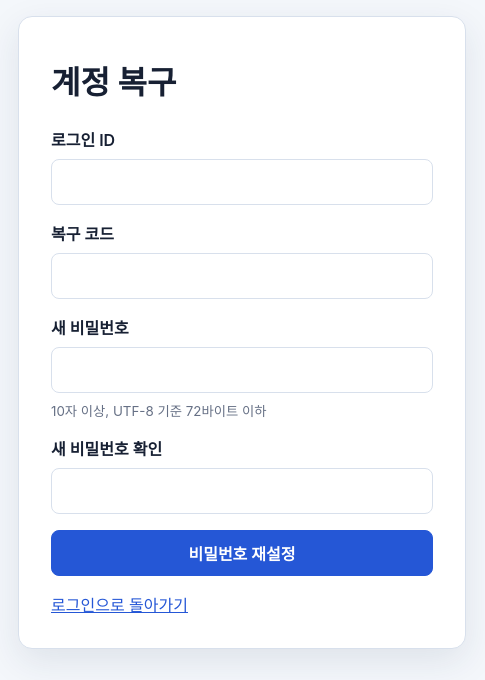
Test: sends the existing recovery request when the confirmation matches
Type "operator-01" into the field labelled "로그인 ID".
click(242, 182); type("operator-01")  # box [51,158,433,204]
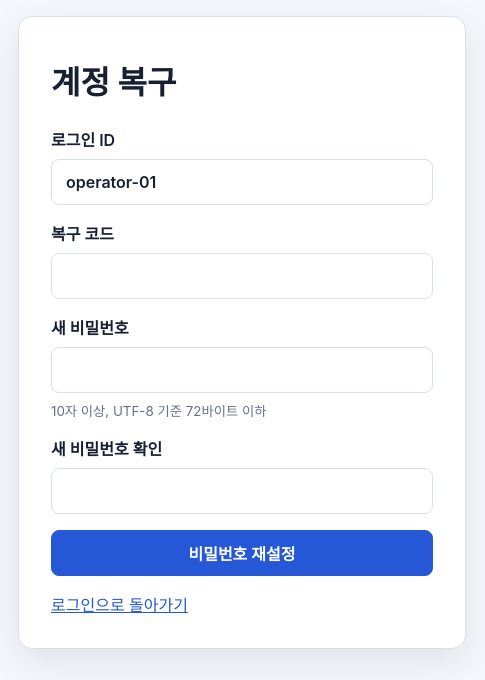
Type "recovery-code-123" into the field labelled "복구 코드".
click(242, 276); type("recovery-code-123")  # box [51,252,433,298]
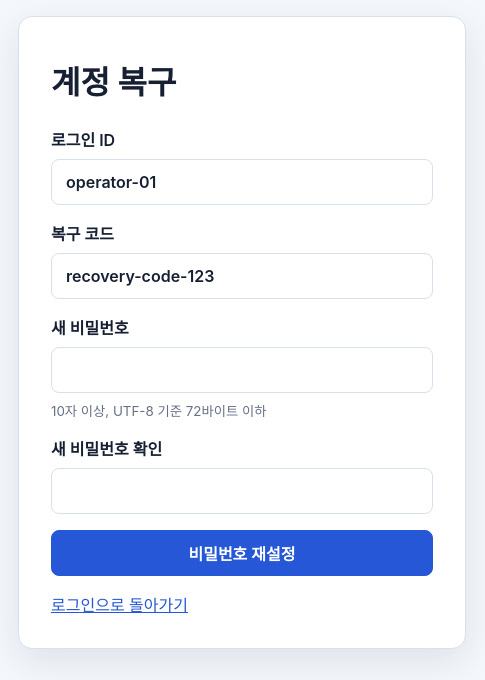
Type "new-password-123" into the password field labelled "새 비밀번호 10자 이상, UTF-8 기준 72바이트 이하".
click(242, 370); type("new-password-123")  # box [51,346,433,392]
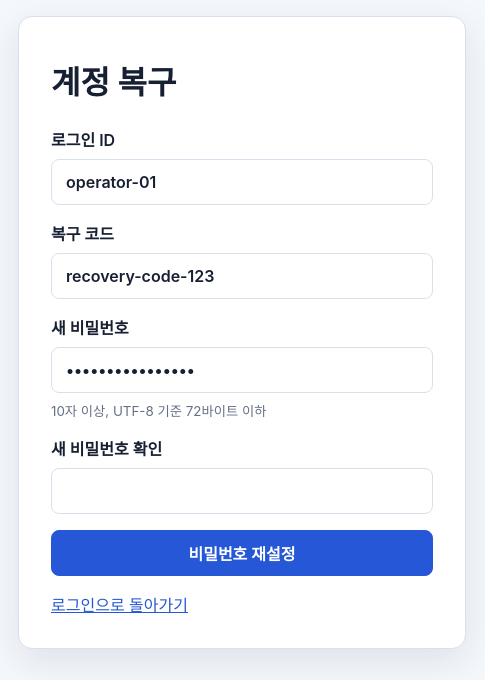
Type "new-password-123" into the password field labelled "새 비밀번호 확인".
click(242, 490); type("new-password-123")  # box [51,468,433,514]
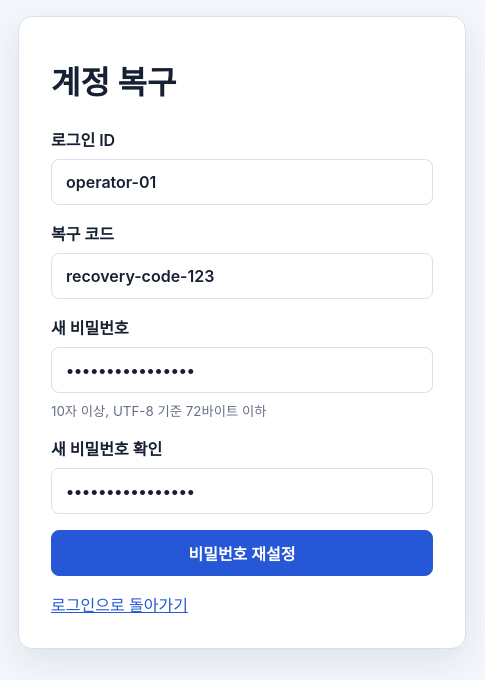
Click the button "비밀번호 재설정".
click(242, 552)  # box [51,530,433,576]
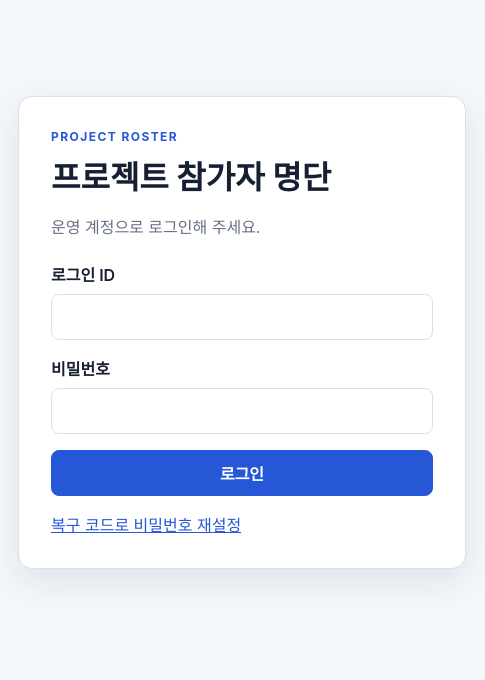
Result: the button "로그인" is shown at [51,450,433,496]
